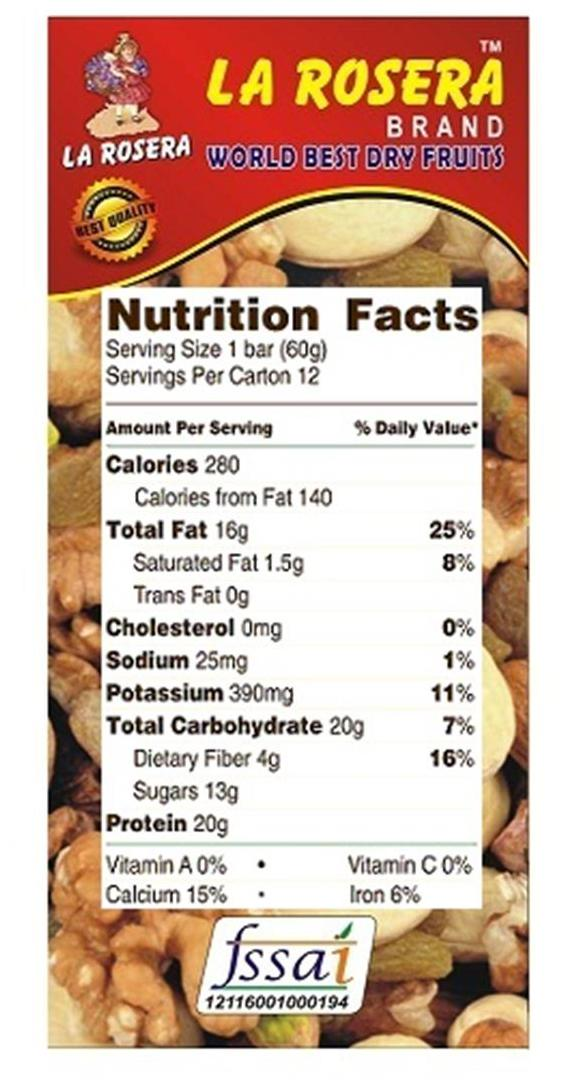fssai: (218, 923, 354, 989)
